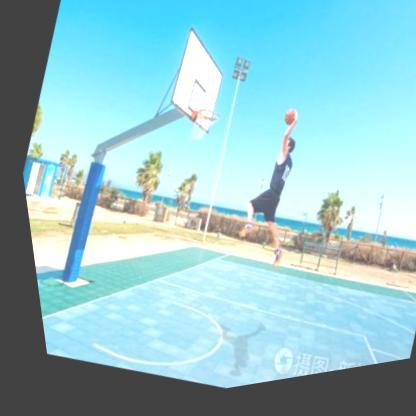basketball: (276, 116, 293, 135)
rim: (181, 109, 222, 156)
